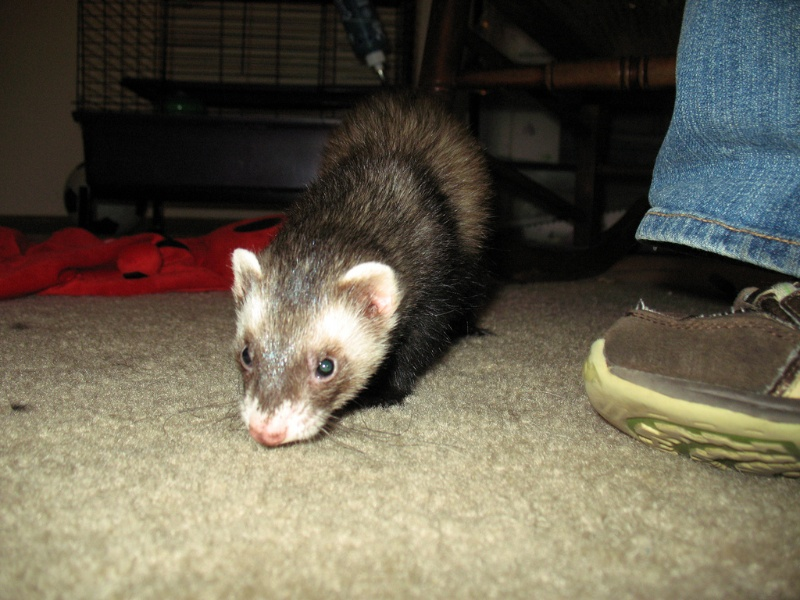minkish: (222, 92, 501, 466)
